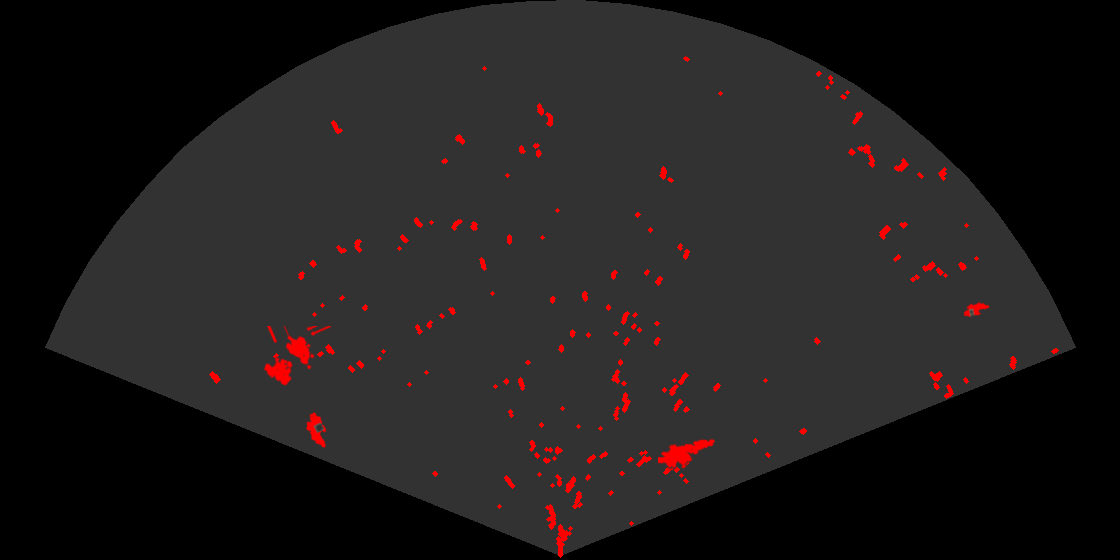AUV: (304, 410, 328, 450), (962, 300, 992, 319)
cage: (262, 326, 331, 387)
frogman: (658, 438, 715, 470)
